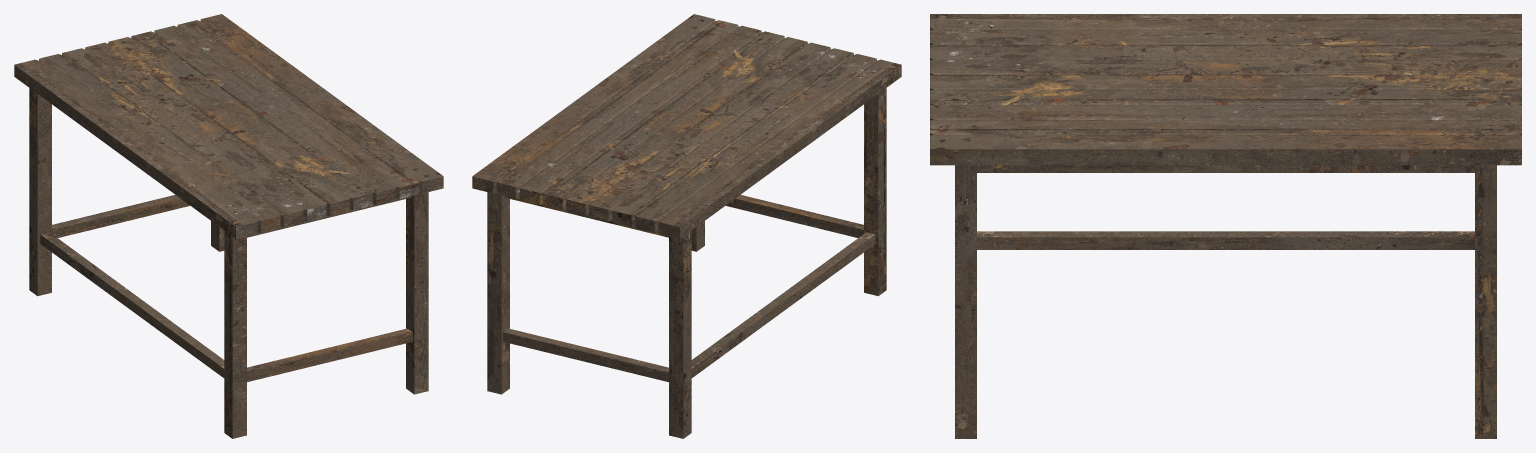
Rendered from Table .glb.
3 renders of one model, left to right at view 1: azimuth 30°, elevation 25°; view 2: azimuth 150°, elevation 25°; view 3: azimuth 270°, elevation 25°, orthographic. The views are drawn at different scales.
Visible parts, largest first — view 1: Cube; view 2: Cube; view 3: Cube.
Part boxes in pixels (x1,y1,x2,y2): Cube: (14, 14, 443, 438); Cube: (472, 14, 901, 438); Cube: (930, 14, 1521, 438).
Bounding box in the file's own units: 3.2 × 3.24 × 5.92.
Materials: 1 (1 with a texture image).
